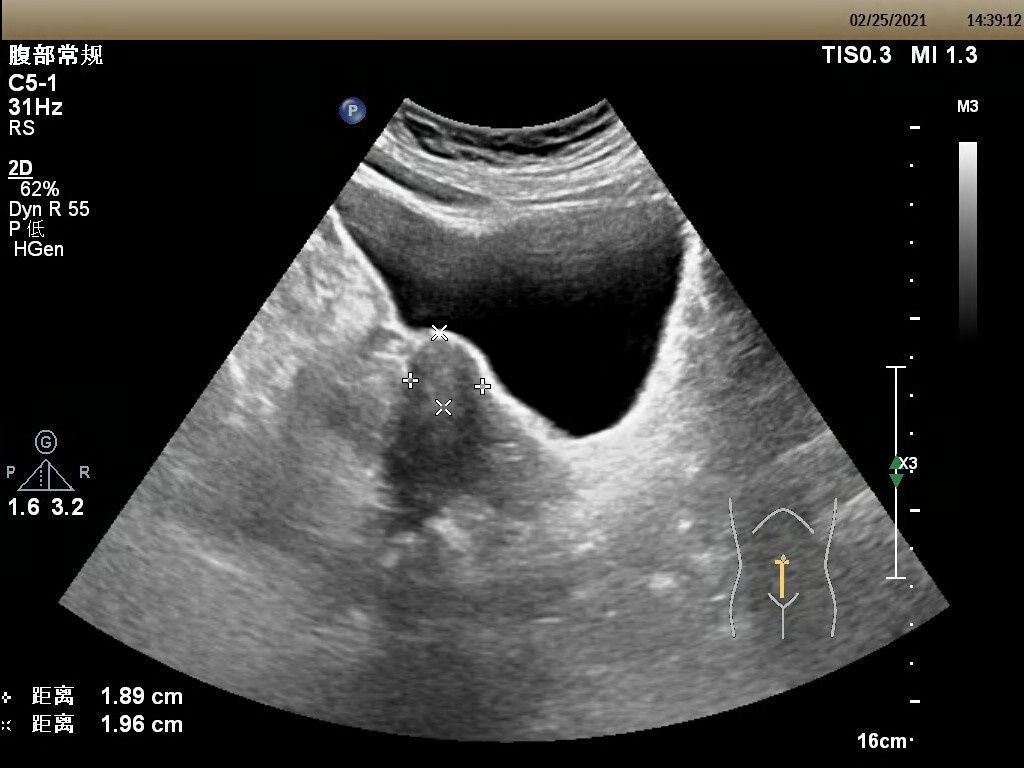肌瘤: (411, 331, 484, 408)
